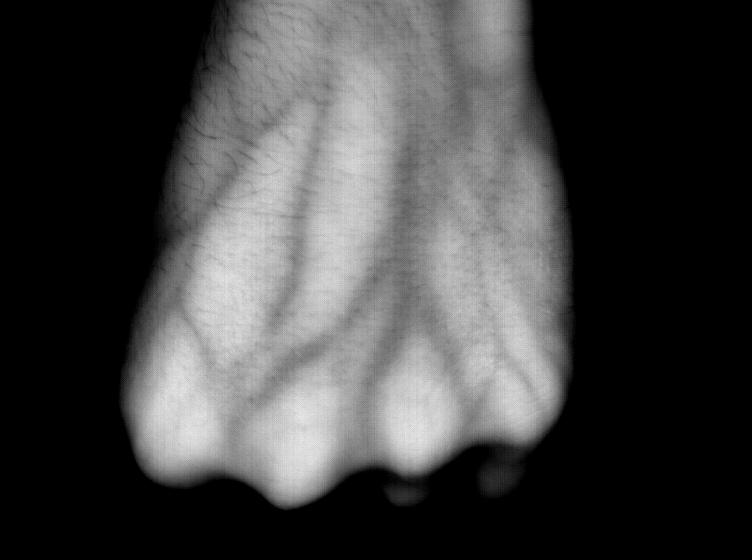Vein: (300, 120, 469, 386), (201, 54, 342, 329)
